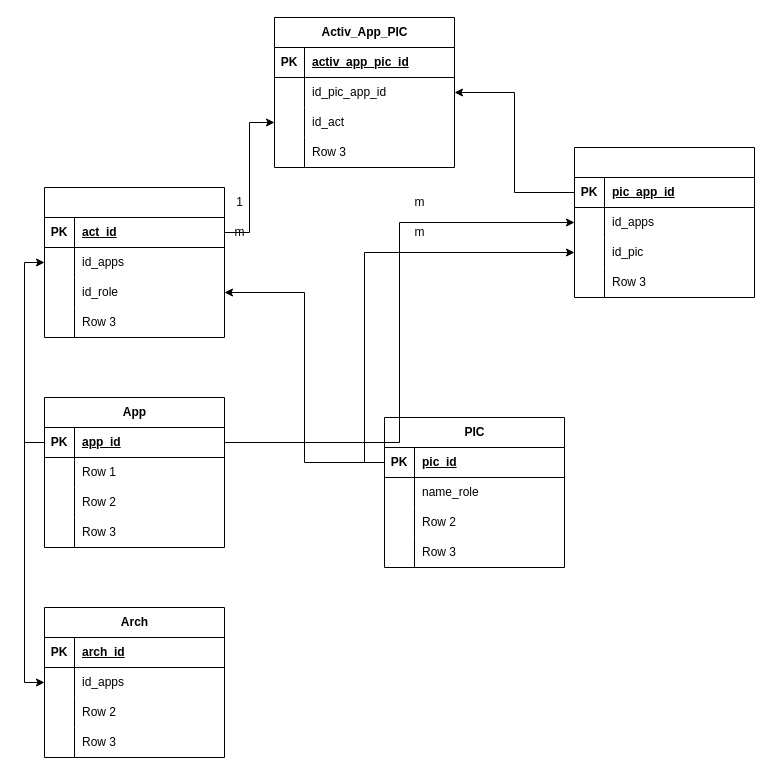
This 772x775 diagram has some shape labels left out. The shapes that lost their labels are listed below. From the top down, each one's box as (x1, y1, x2, y2) in pixels, then its label:
(574, 146, 754, 298): App_PIC
(44, 186, 224, 338): Activ
